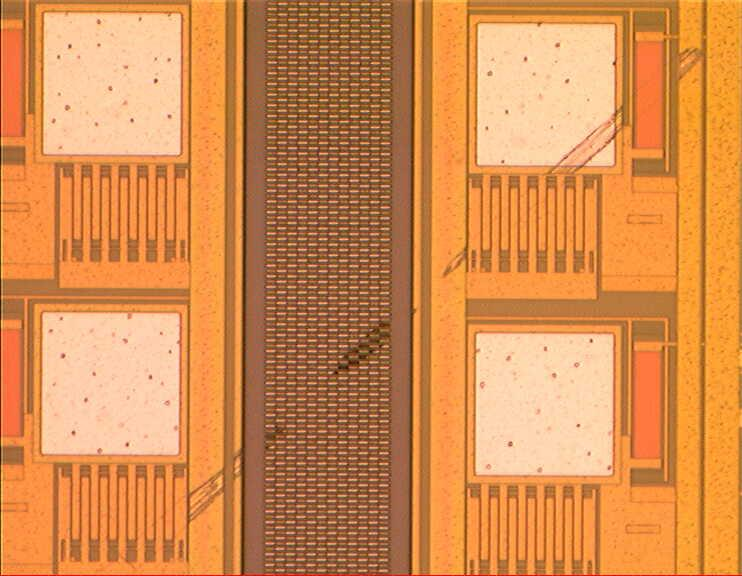SCRATCH: (108, 38, 710, 576)
